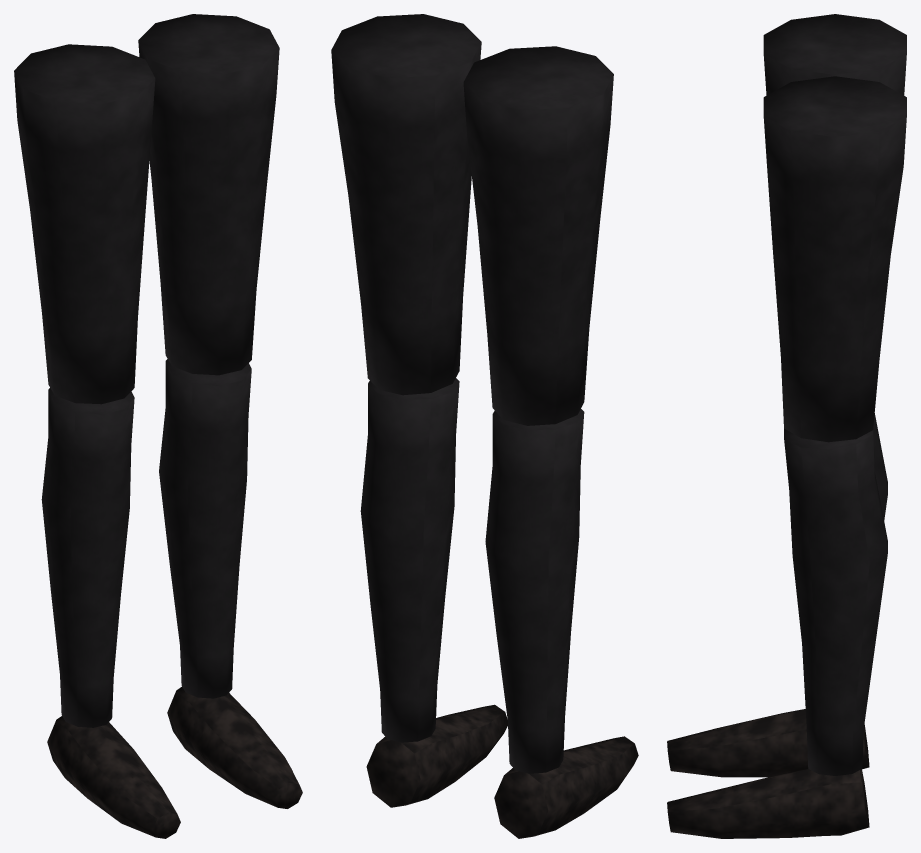
File: cuerpo.obj
3 views of the same model, side by side, from view 1: azimuth 30°, elevation 25°; view 2: azimuth 150°, elevation 25°; view 3: azimuth 270°, elevation 25° (orthographic). The views are drawn at different scales.
Parts seen in each view (by area): view 1: tambora_MusloDer, tambora_MusloIzq, tambora_PiernaIzq, tambora_PiernaDer; view 2: tambora_MusloDer, tambora_MusloIzq, tambora_PiernaDer, tambora_PiernaIzq; view 3: tambora_MusloIzq, tambora_PiernaIzq, tambora_MusloDer, tambora_PiernaDer.
Boxes of the visible parts, x1,y1,x2,y2 form: tambora_MusloDer: [14, 44, 155, 404]; tambora_MusloIzq: [138, 14, 279, 375]; tambora_PiernaIzq: [159, 359, 302, 808]; tambora_PiernaDer: [41, 388, 180, 838]; tambora_MusloDer: [463, 46, 613, 425]; tambora_MusloIzq: [331, 14, 481, 395]; tambora_PiernaDer: [485, 409, 638, 838]; tambora_PiernaIzq: [360, 378, 507, 807]; tambora_MusloIzq: [763, 76, 906, 442]; tambora_PiernaIzq: [667, 428, 887, 838]; tambora_MusloDer: [763, 14, 906, 95]; tambora_PiernaDer: [667, 413, 887, 777].
Size of the model in its own units: 0.348 by 0.9626 by 0.2866.
Materials: 2 (2 with a texture image).
